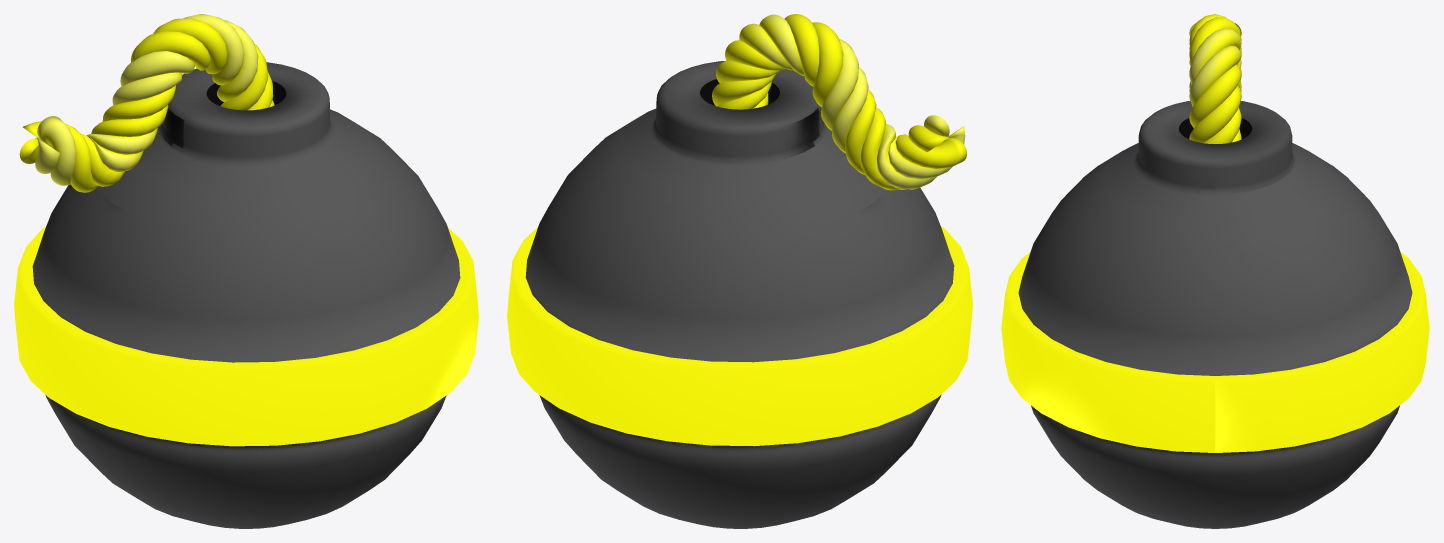
File: NormalBomb.fbx
3 renders of one model, left to right at view 1: azimuth 30°, elevation 25°; view 2: azimuth 150°, elevation 25°; view 3: azimuth 270°, elevation 25°, orthographic. The views are drawn at different scales.
Parts seen in each view (by area): view 1: BezierCircle.008; view 2: BezierCircle.008; view 3: BezierCircle.008.
Part boxes in pixels (box(x1,y1,x2,y2)): BezierCircle.008: box(14, 14, 478, 528); BezierCircle.008: box(507, 14, 972, 528); BezierCircle.008: box(1001, 14, 1429, 528).
Bounding box in the file's own units: 226 × 213 × 255.
